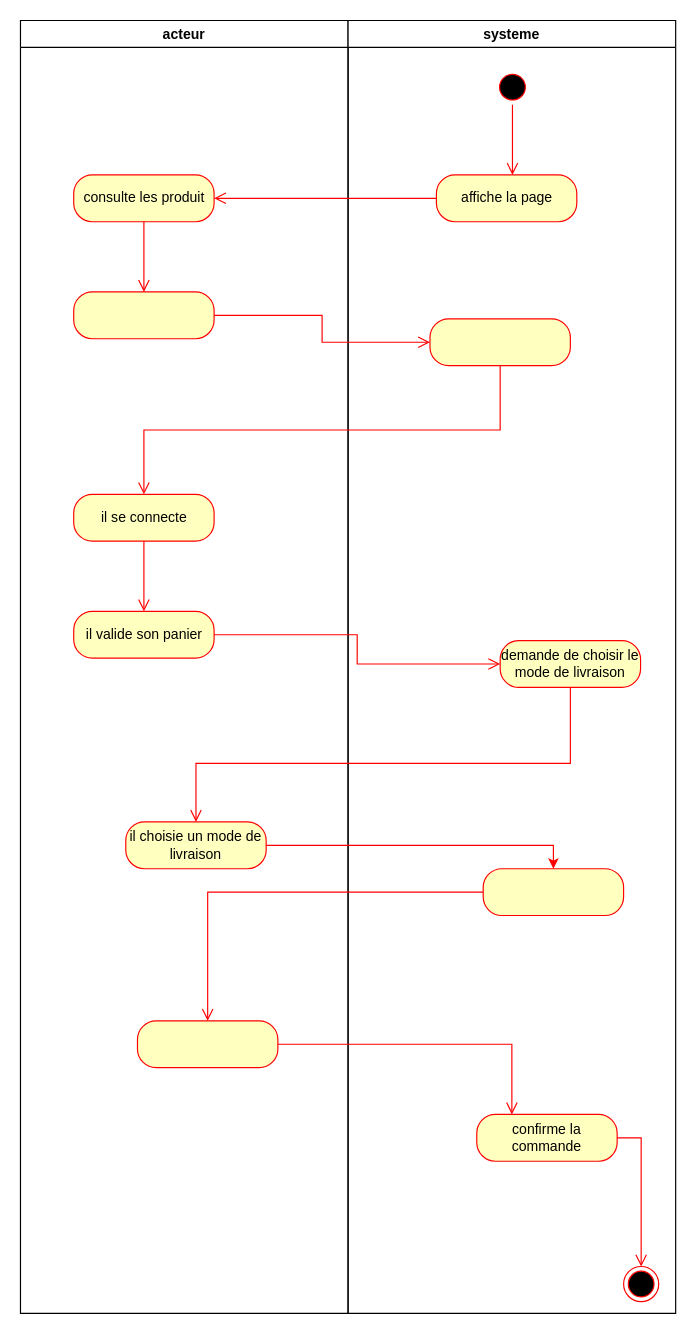
Image size: 696x1334. Some labels were removed from this diagram. The shapes that lost their labels are listed below. From the top down, each one's centre as x and y in pixels, then its label:
At pixel 143 315: "metter des produit dans le panier".
At pixel 499 342: "demande se connecter".
At pixel 553 892: "affiche un formulaire de paiement".
At pixel 207 1044: "il entre les imformation sur le paiement".
